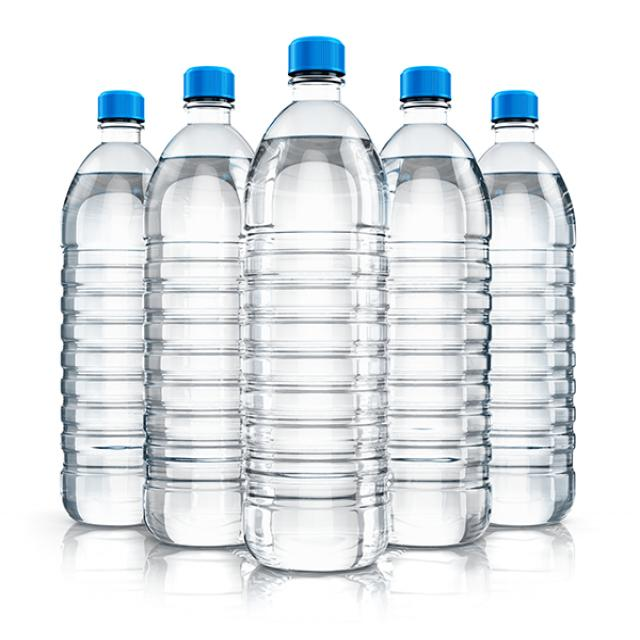Botella Plastica: (244, 35, 389, 571), (378, 66, 491, 547), (143, 68, 255, 549), (478, 90, 574, 528), (62, 89, 157, 528)
